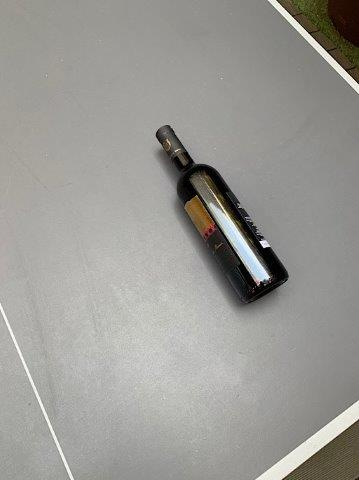botolkaca: (157, 125, 287, 300)
